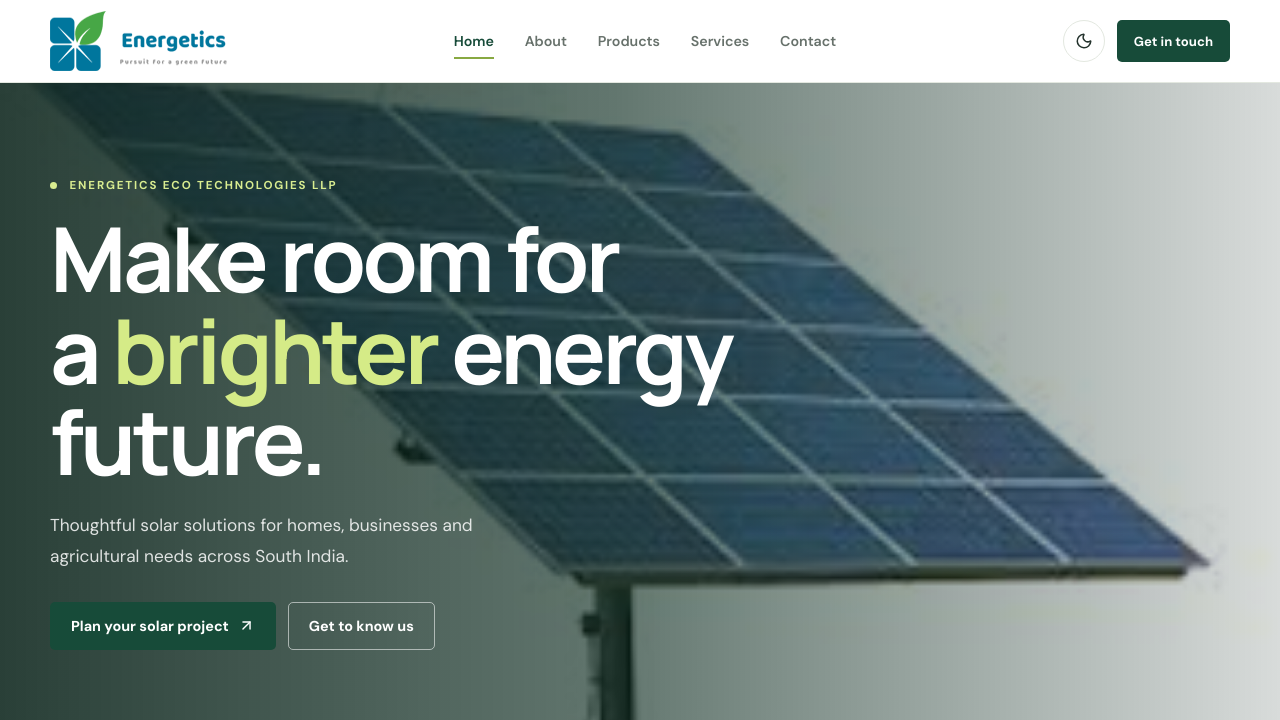
Test: site navigation and theme › renders the main navigation and routes to the products page
Expected: the navigation bar named "Main navigation" is shown, [454,32,836,50]
Click the link "Products" at x=629, y=41, box [598,32,660,50]
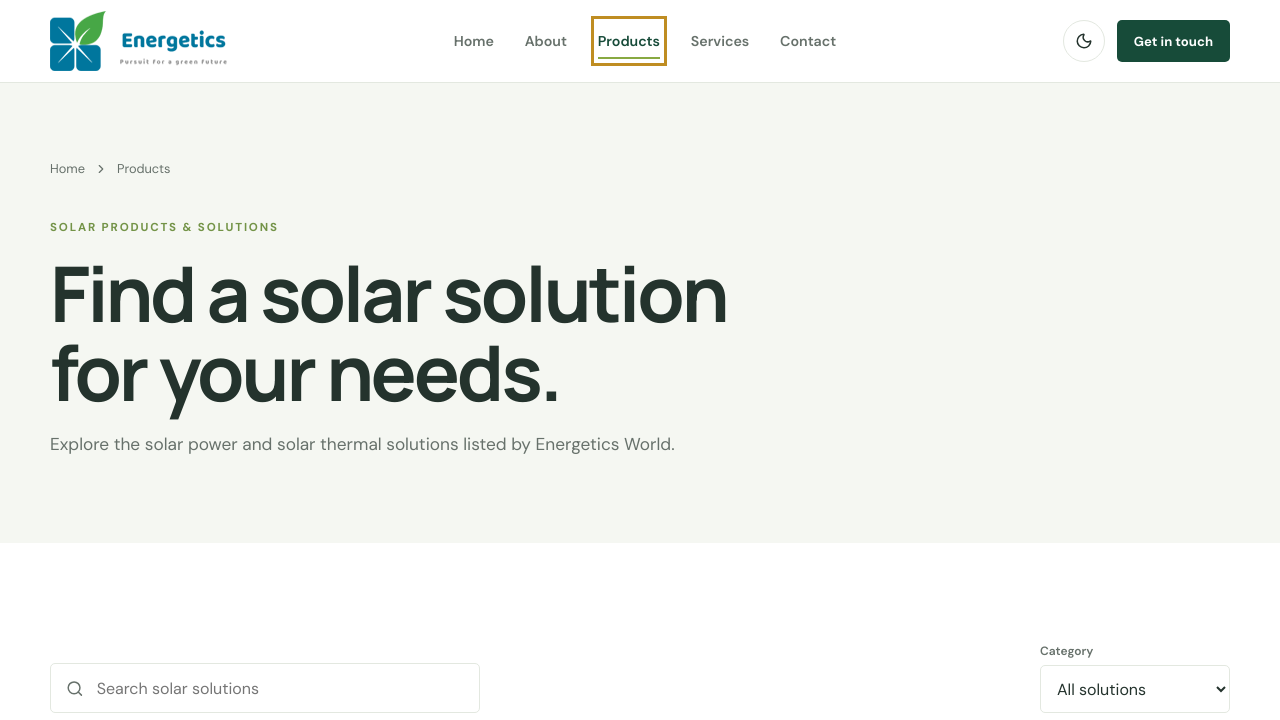
Expected: the heading "Find a solar solution" is shown, [50,240,727,424]
